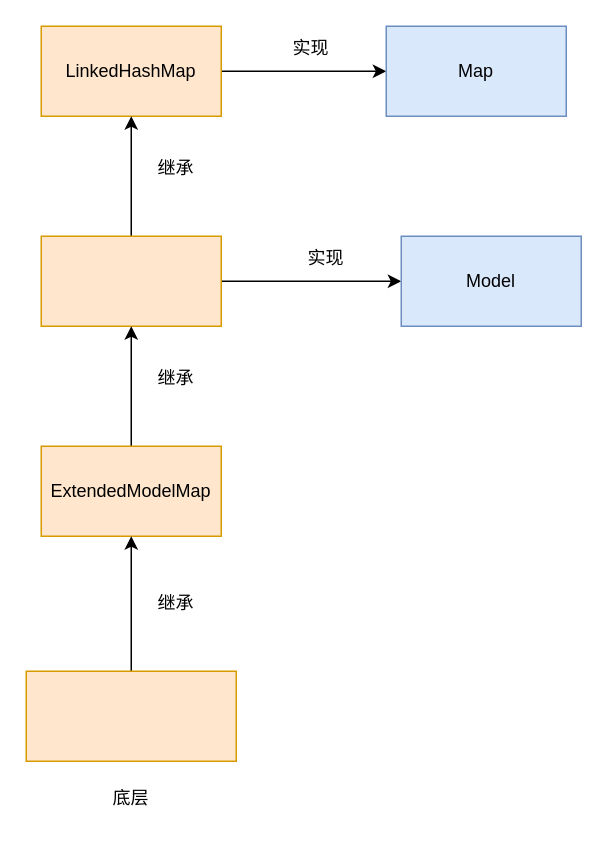
The diagram is 608 pixels wide and 848 high, and some of its shapes have lost their labels. The centre of each missing label's shape, as x and y in pixels:
BindingAwareModelMap: the point at 130,715
ModelMap: the point at 130,280
